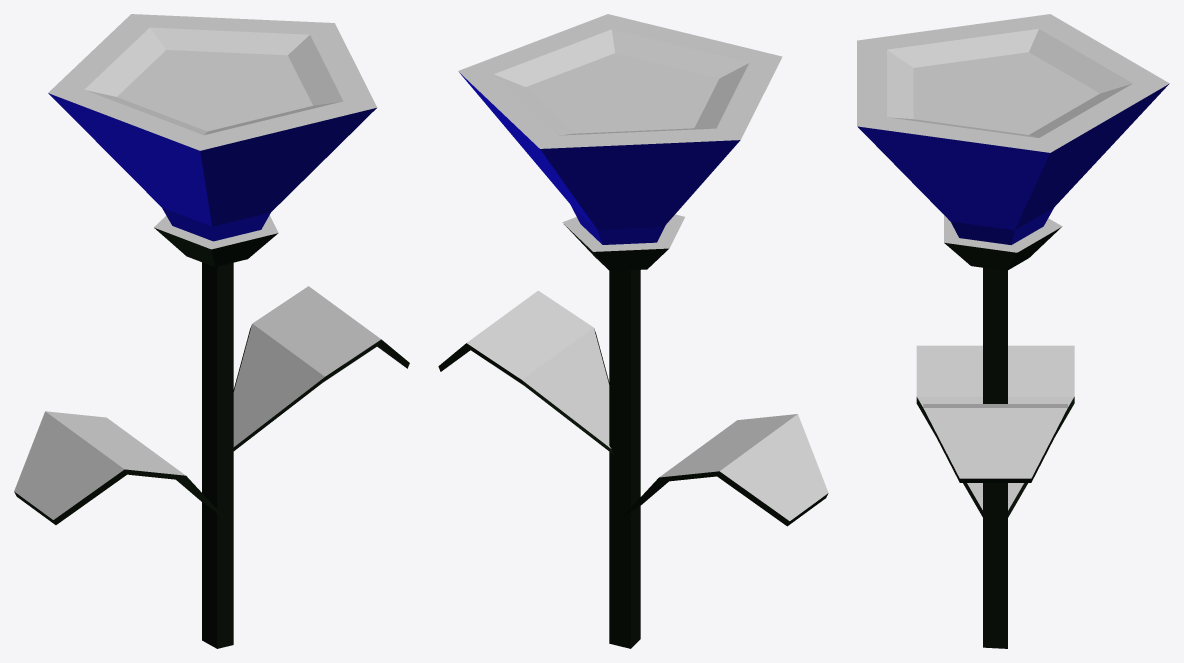
Rendered from Flower_4_Snow.obj.
3 views of the same model, side by side, from view 1: azimuth 30°, elevation 25°; view 2: azimuth 150°, elevation 25°; view 3: azimuth 270°, elevation 25° (orthographic).
Visible parts, largest first — view 1: Flower_4_Snow_Cube.014; view 2: Flower_4_Snow_Cube.014; view 3: Flower_4_Snow_Cube.014.
Boxes of the visible parts, left/top/right/bottom form: Flower_4_Snow_Cube.014: left=14, top=14, right=409, bottom=648; Flower_4_Snow_Cube.014: left=438, top=14, right=828, bottom=648; Flower_4_Snow_Cube.014: left=857, top=14, right=1169, bottom=648.
Size of the model in its own units: 0.6189 by 0.9315 by 0.4714.
